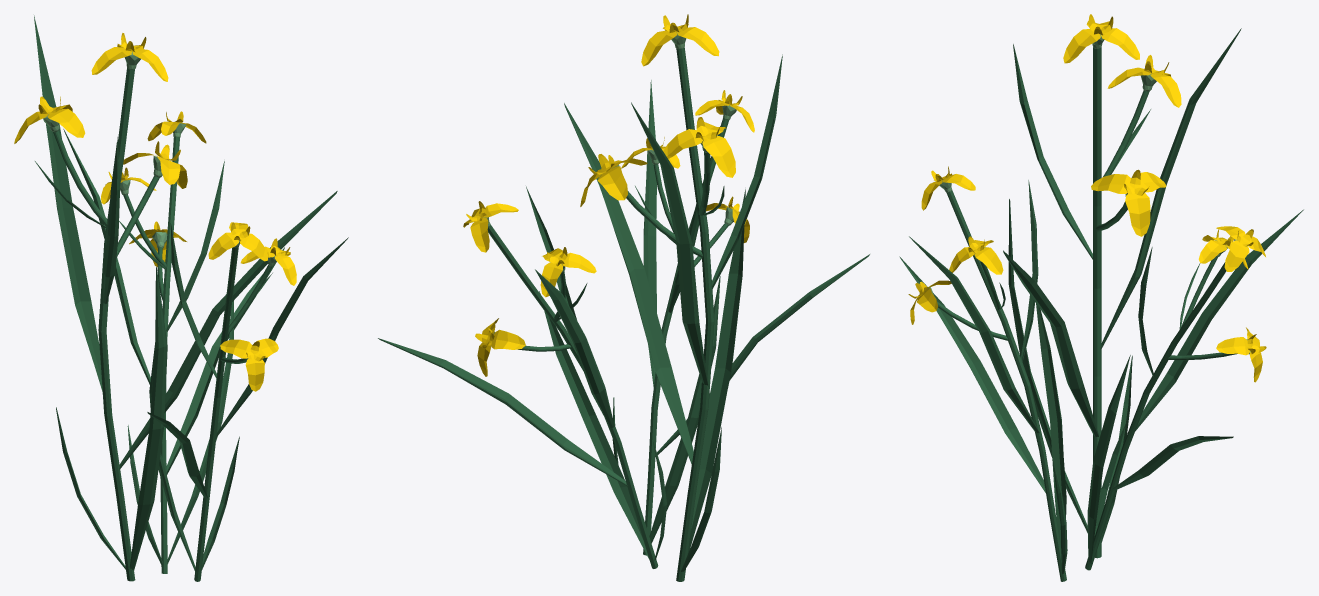
The model's file is mod_vg_irisd'eauM.fbx.
The picture shows the model from 3 angles, left to right: view 1: azimuth 30°, elevation 25°; view 2: azimuth 150°, elevation 25°; view 3: azimuth 270°, elevation 25°; orthographic projection. The views are drawn at different scales.
Parts seen in each view (by area): view 1: Cylinder.003; view 2: Cylinder.003; view 3: Cylinder.003.
Part boxes in pixels (left/top/right/bottom): Cylinder.003: left=14, top=15, right=348, bottom=581; Cylinder.003: left=378, top=14, right=869, bottom=581; Cylinder.003: left=899, top=14, right=1303, bottom=581.
Bounding box in the file's own units: 42 × 71.1 × 48.3.
